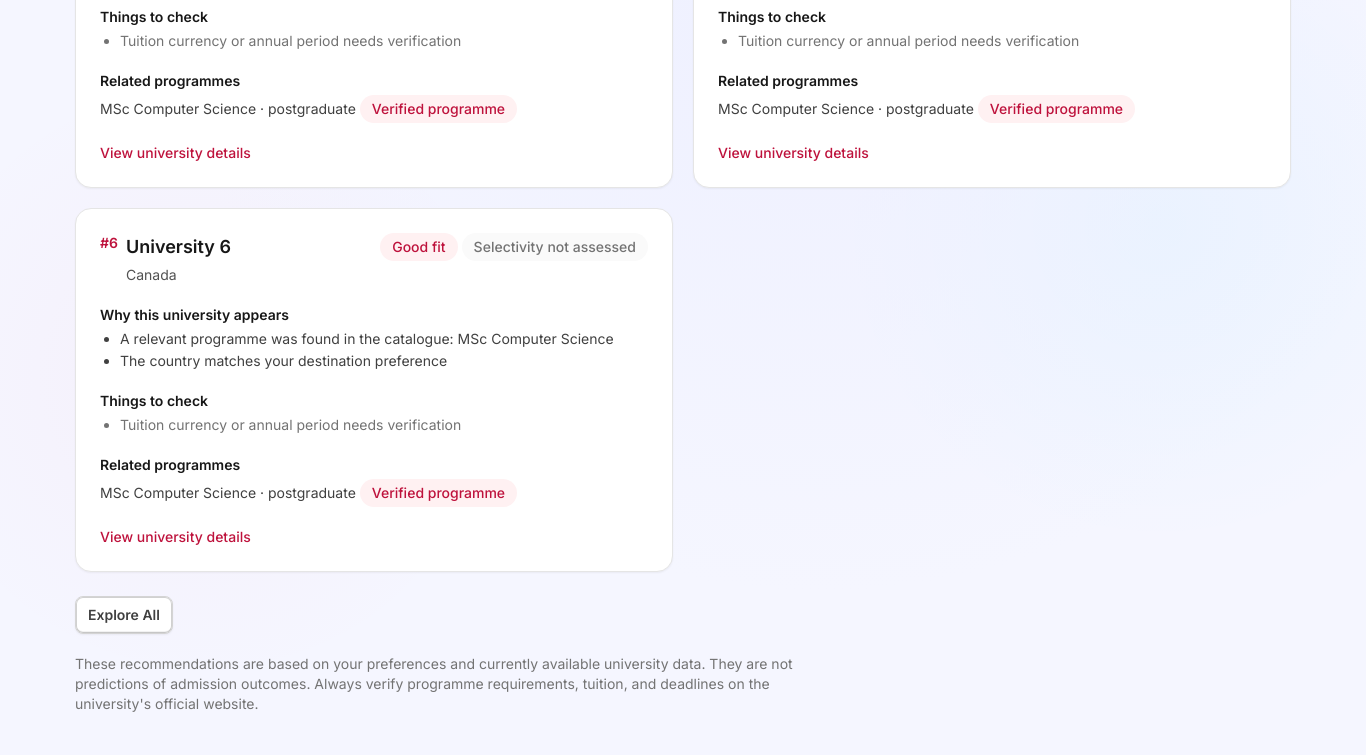
Test case: UniversityMatchResults › progressively renders recommendation windows and resets the window after filtering
The image size is (1366, 755).
(page scrolled)
Click the button "Explore All".
click(124, 615)  # box [75,596,173,634]
(page scrolled)
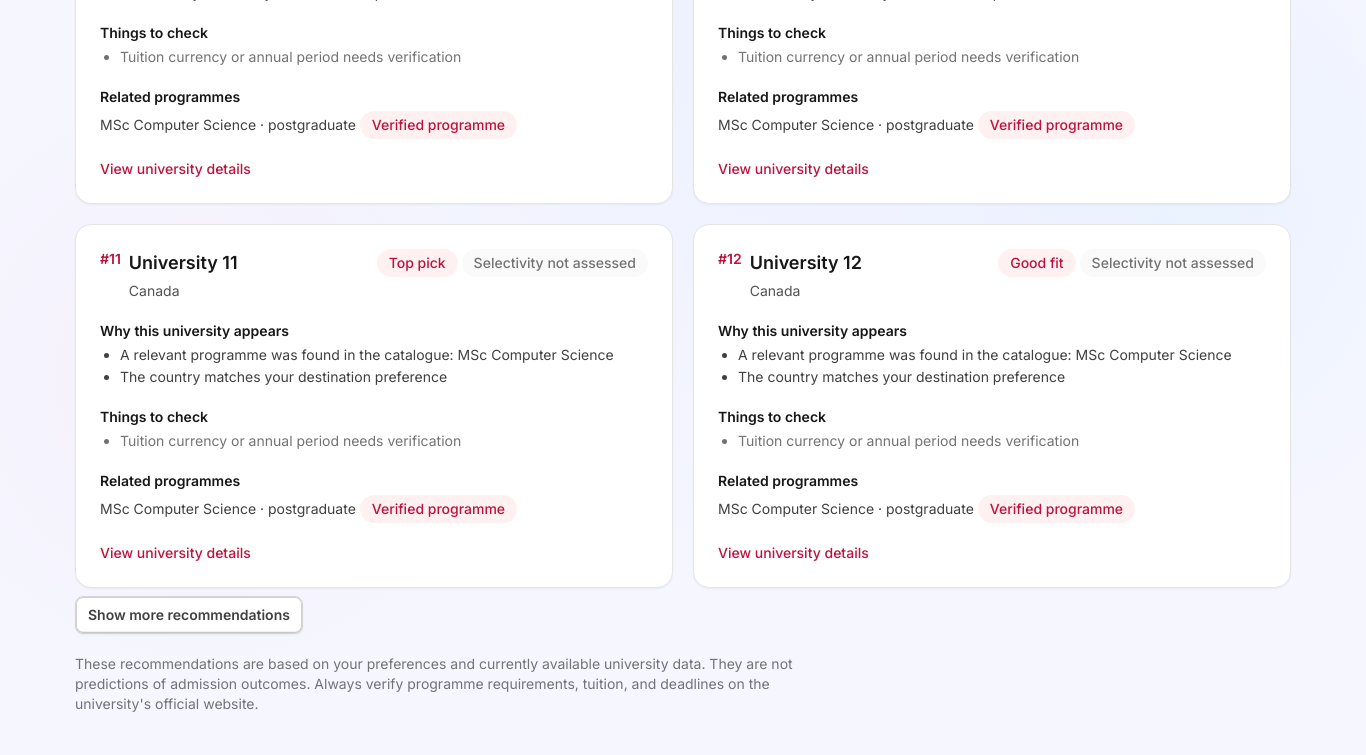
Click the button "Show more recommendations".
click(189, 615)  # box [75,596,303,634]
(page scrolled)
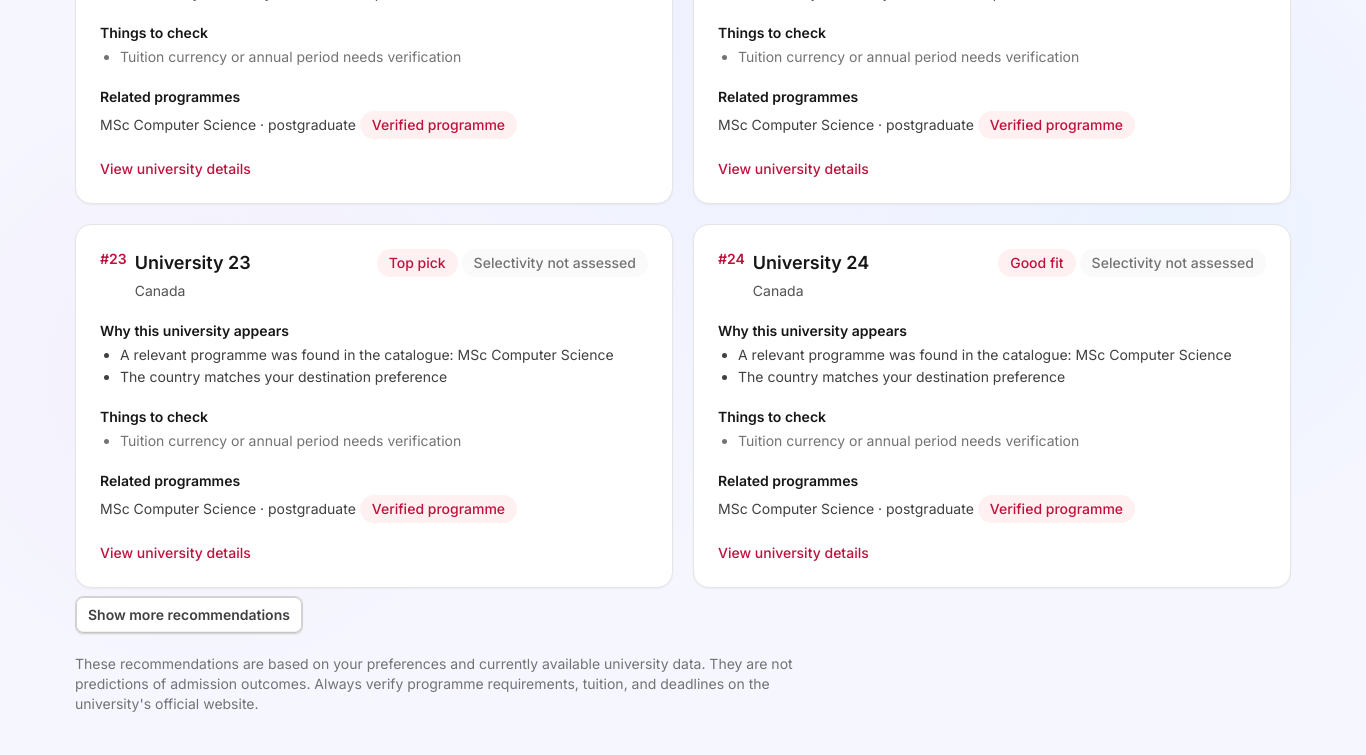
Click the button "Show more recommendations".
click(189, 615)  # box [75,596,303,634]
(page scrolled)
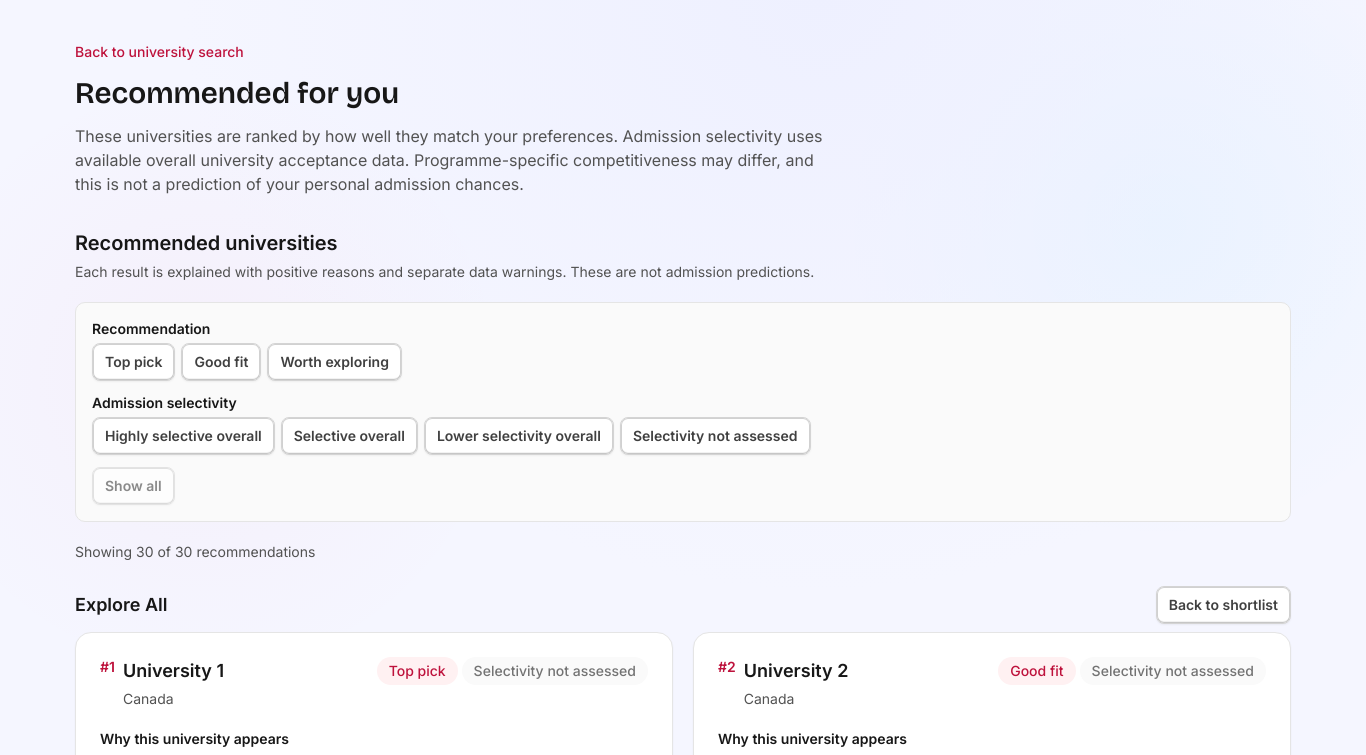
expect the number of elements named "Recommendation rank" is 30: met
expect the button "Show more recommendations" is gone: met
Click the button "Good fit".
click(221, 362)  # box [182,343,261,381]
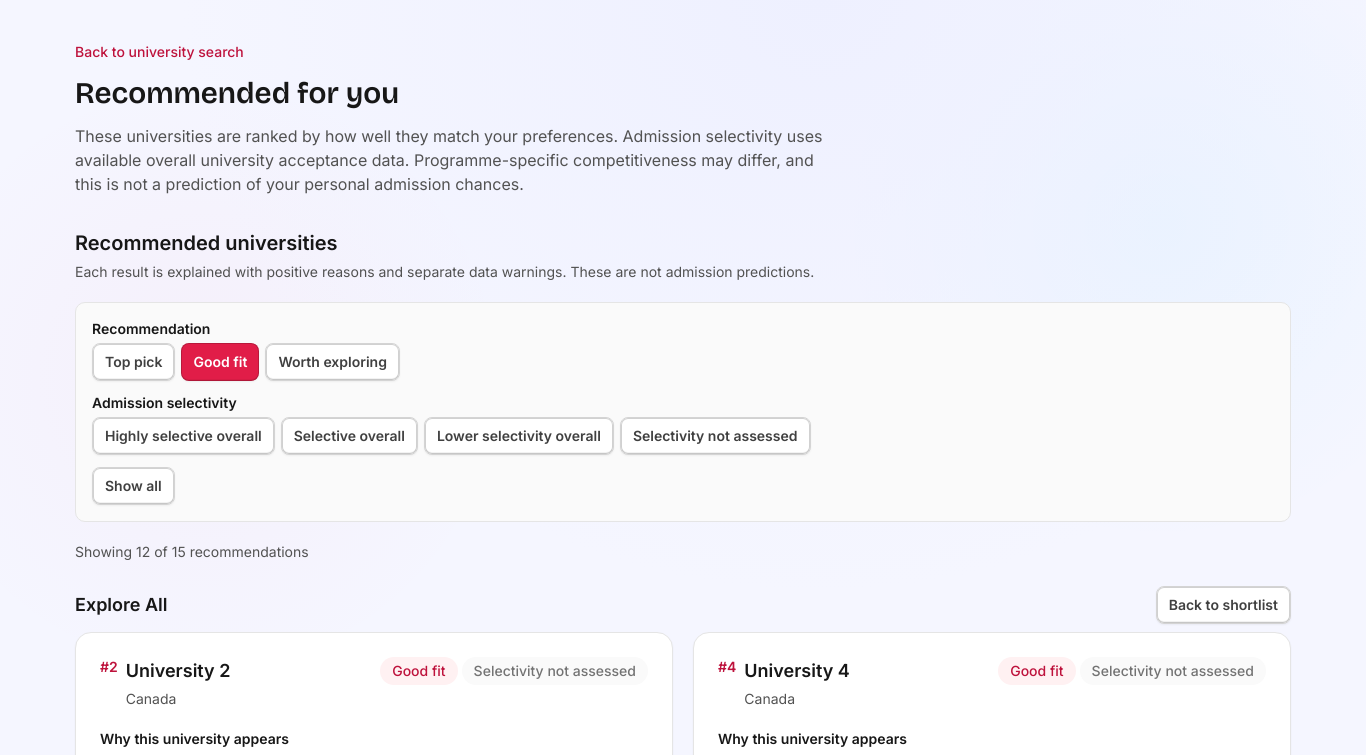
expect the text "Showing 12 of 15 recommendations" is shown: met, box [75,543,309,560]
